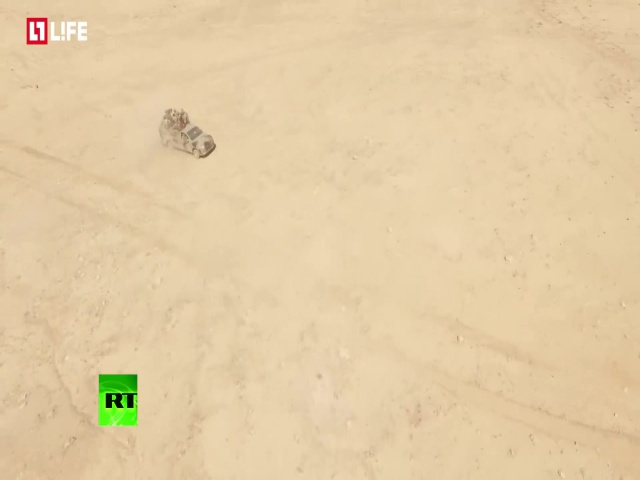vehicle: (157, 106, 217, 158)
